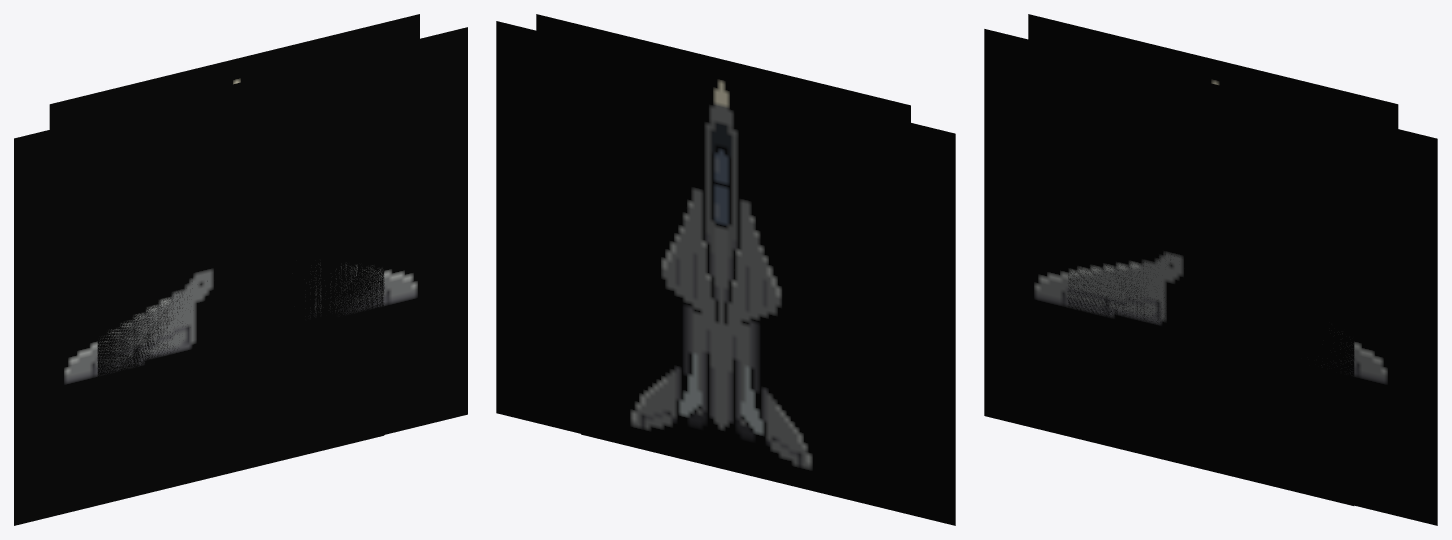
Rendered from f-14_AnimationPack.fbx.
3 views of the same model, side by side, from view 1: azimuth 30°, elevation 25°; view 2: azimuth 150°, elevation 25°; view 3: azimuth 330°, elevation 25° (orthographic).
Visible parts, largest first — view 1: f14_tomcat_LW, f14_tomcat_RW, f14_tomcat_FU; view 2: f14_tomcat_FU, f14_tomcat_RW, f14_tomcat_LW; view 3: f14_tomcat_LW, f14_tomcat_RW, f14_tomcat_FU.
Part boxes in pixels (bbox=[...]): f14_tomcat_LW: bbox=[14, 48, 384, 525]; f14_tomcat_RW: bbox=[97, 27, 467, 504]; f14_tomcat_FU: bbox=[49, 14, 419, 129]; f14_tomcat_FU: bbox=[536, 14, 910, 497]; f14_tomcat_RW: bbox=[496, 21, 870, 504]; f14_tomcat_LW: bbox=[581, 123, 955, 525]; f14_tomcat_LW: bbox=[984, 29, 1354, 505]; f14_tomcat_RW: bbox=[1067, 48, 1437, 525]; f14_tomcat_FU: bbox=[1028, 14, 1398, 128].
Bounding box in the file's own units: 123 × 105 × 2.
3 materials, 3 textured.
